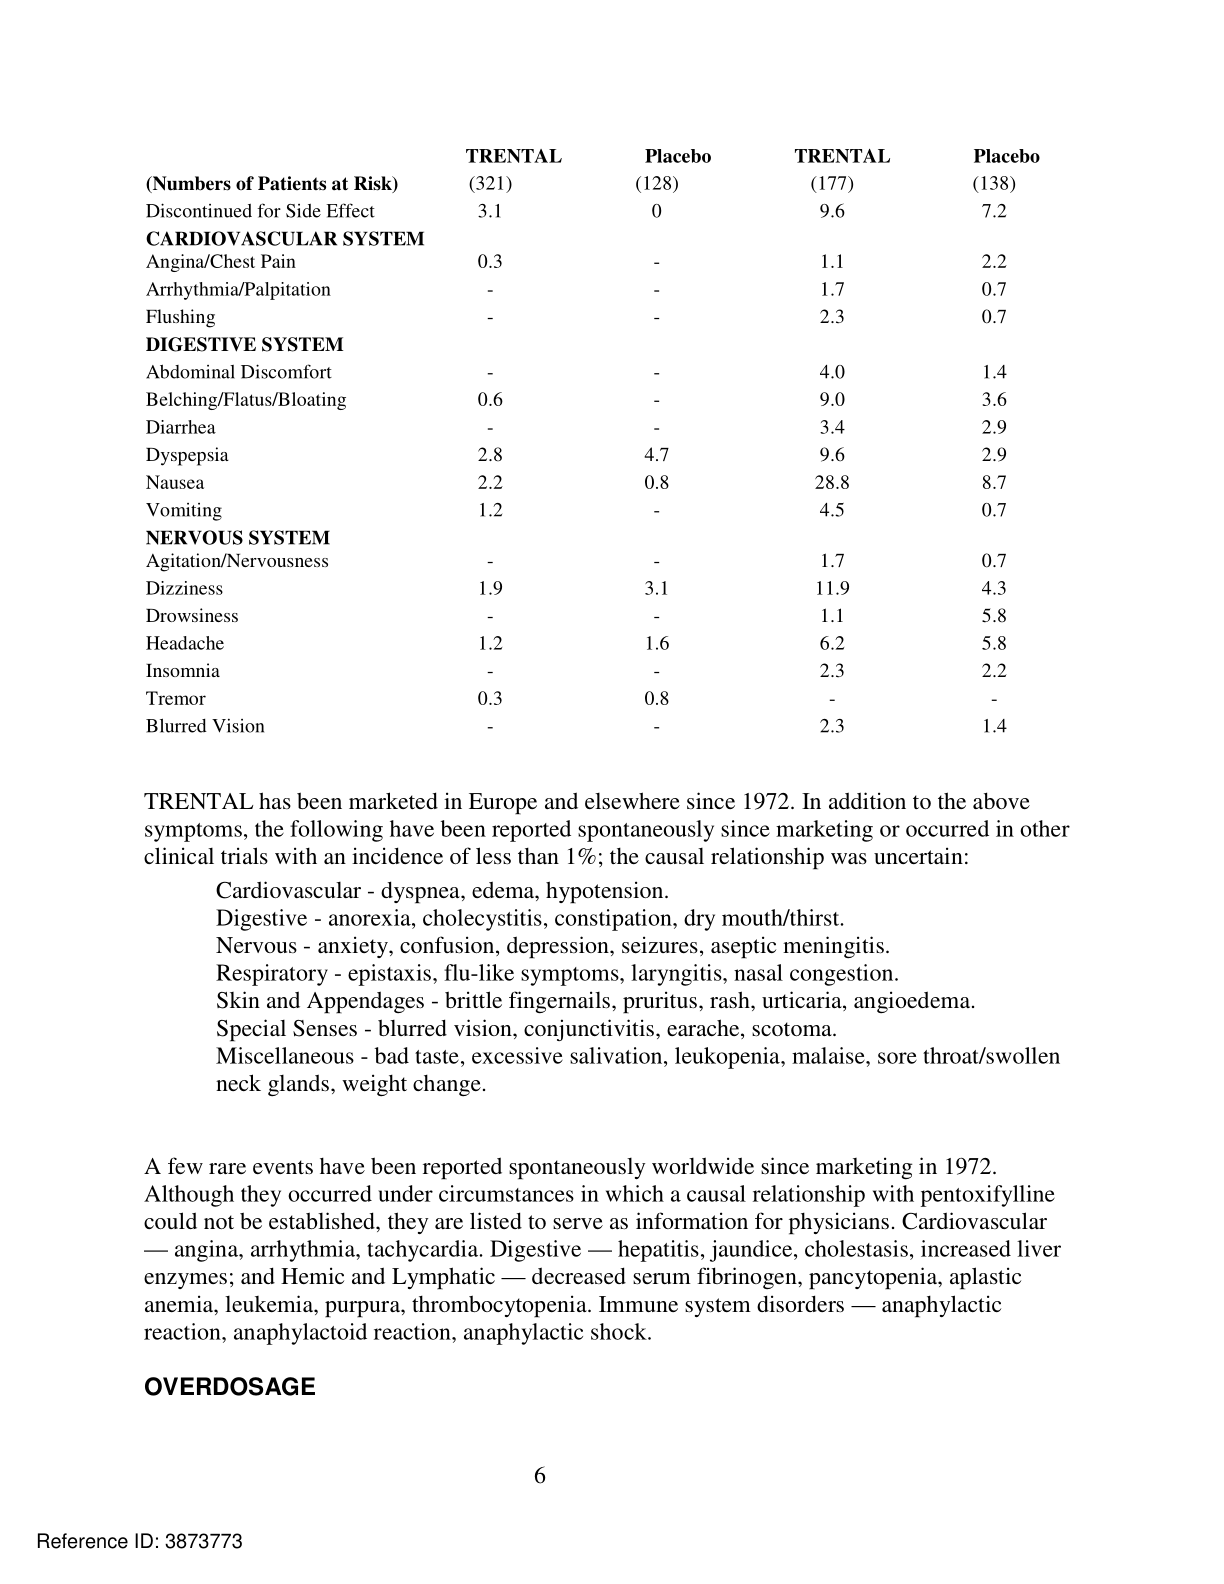nolines: (141, 147, 1044, 737)
